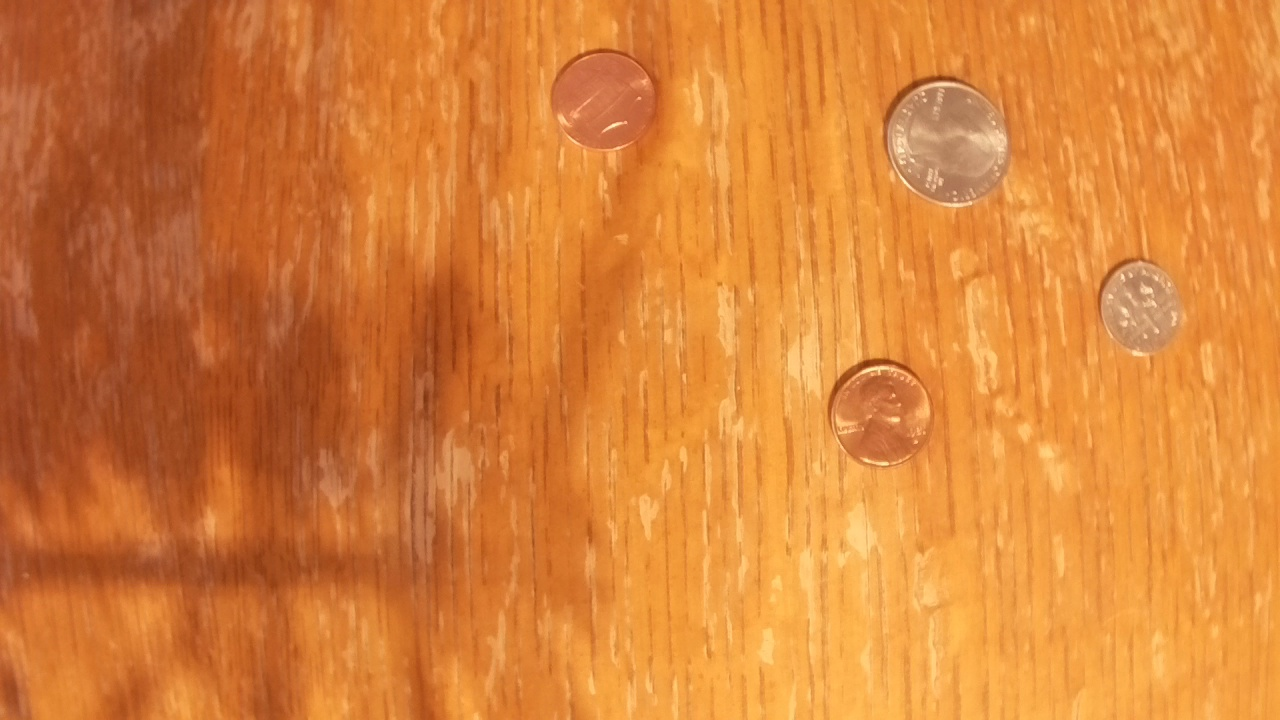dime: (1100, 259, 1184, 358)
penny: (827, 361, 934, 468), (551, 49, 658, 153)
quarter: (883, 76, 1012, 211)
